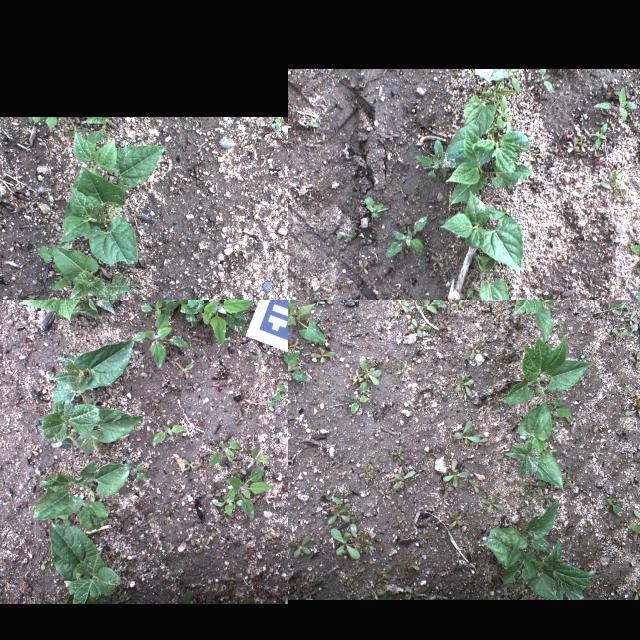crop: (484, 498, 598, 600), (59, 166, 140, 266), (438, 125, 534, 205), (49, 332, 148, 406), (441, 190, 523, 274), (32, 460, 130, 530), (499, 336, 593, 404), (38, 398, 146, 456), (72, 130, 168, 192), (49, 521, 121, 603), (499, 400, 561, 488), (51, 243, 131, 300), (464, 68, 514, 142), (486, 300, 578, 337), (17, 300, 119, 322), (473, 252, 508, 300), (288, 300, 328, 342), (86, 116, 112, 125)
weed: (154, 300, 253, 345), (144, 307, 192, 369), (227, 464, 273, 520), (385, 215, 429, 258), (592, 85, 638, 124), (412, 140, 448, 178), (67, 116, 111, 144), (330, 529, 362, 561), (210, 485, 244, 515), (288, 339, 308, 387), (152, 424, 188, 448), (596, 170, 626, 198), (141, 300, 181, 318), (209, 440, 239, 464), (444, 457, 468, 487), (454, 420, 481, 444), (531, 69, 553, 95), (365, 192, 385, 220), (625, 232, 640, 269), (288, 535, 311, 559), (361, 358, 382, 384), (351, 381, 367, 413), (592, 124, 610, 152), (328, 503, 350, 525), (602, 494, 624, 516), (248, 448, 272, 468), (517, 480, 547, 496), (267, 383, 288, 405), (392, 469, 416, 488), (126, 458, 146, 480), (300, 110, 324, 128), (481, 494, 505, 512), (454, 372, 472, 396), (306, 278, 332, 294), (496, 96, 509, 128), (412, 317, 432, 337), (453, 287, 481, 300), (549, 286, 575, 300), (28, 116, 58, 128), (524, 174, 542, 193), (310, 348, 336, 360), (449, 511, 466, 529), (416, 300, 437, 314), (36, 244, 52, 262), (404, 586, 428, 598), (338, 574, 356, 590), (629, 524, 640, 549), (432, 253, 448, 270), (389, 282, 405, 298), (605, 223, 621, 239), (568, 138, 582, 156), (603, 265, 617, 283), (556, 172, 572, 186), (550, 222, 564, 238), (230, 461, 246, 475), (378, 566, 392, 582), (326, 488, 342, 502), (624, 404, 640, 418), (394, 300, 407, 317), (383, 130, 401, 142), (562, 470, 574, 488), (438, 318, 456, 330), (625, 308, 637, 326), (625, 212, 640, 226), (613, 300, 628, 314), (503, 592, 529, 600), (50, 278, 70, 288), (364, 590, 384, 600), (470, 339, 480, 359), (606, 248, 618, 264), (362, 462, 374, 478), (512, 77, 522, 96), (288, 116, 297, 136), (282, 350, 288, 380), (630, 350, 640, 368), (498, 348, 516, 358), (568, 210, 580, 224), (183, 458, 197, 470), (628, 585, 640, 599), (362, 537, 374, 551), (580, 136, 588, 156), (468, 478, 478, 494), (358, 260, 369, 274), (392, 446, 403, 460), (305, 588, 319, 598), (405, 560, 419, 570), (506, 490, 520, 500), (627, 475, 637, 489), (634, 310, 640, 333), (380, 488, 392, 499), (435, 300, 452, 307), (634, 508, 640, 527), (369, 276, 377, 290), (354, 532, 368, 540), (396, 515, 402, 533), (536, 493, 554, 499), (398, 362, 408, 372), (352, 370, 362, 380), (343, 484, 349, 498), (452, 300, 464, 307), (271, 124, 281, 132), (440, 583, 448, 593), (288, 454, 297, 462), (624, 384, 630, 396), (274, 116, 282, 122), (359, 566, 366, 572), (568, 544, 572, 550), (492, 410, 498, 414)
